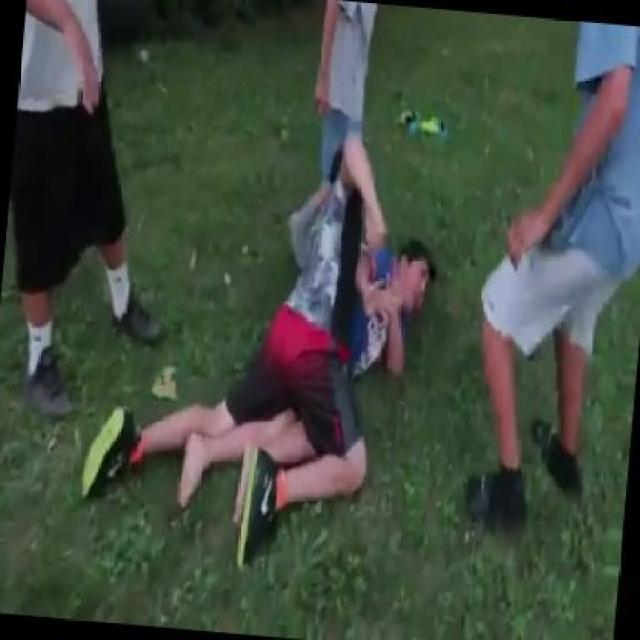fight: (79, 124, 438, 571)
